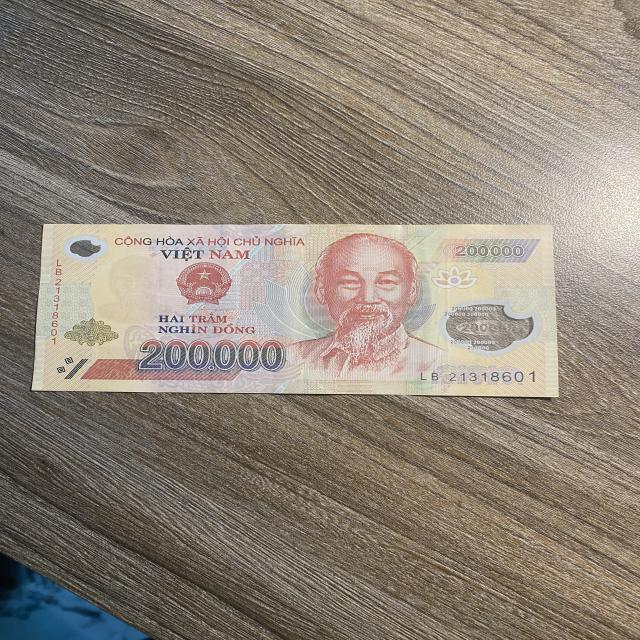200 000 VND: (29, 222, 562, 400)
